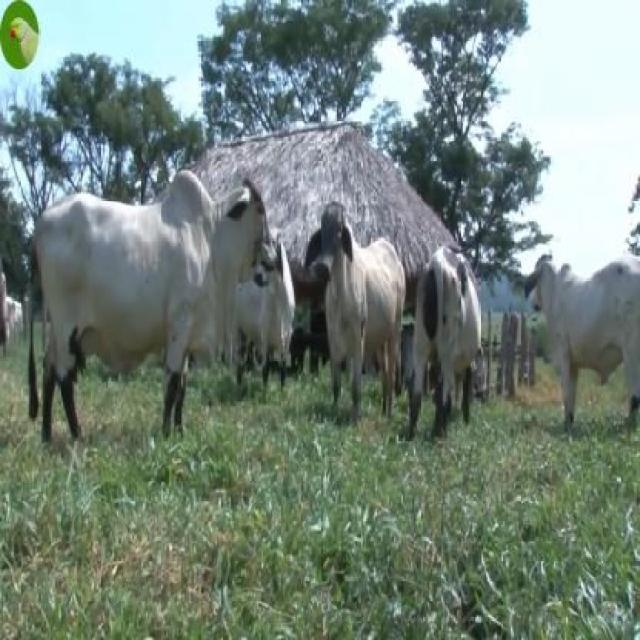Cow: (25, 166, 274, 446), (306, 200, 408, 435)
